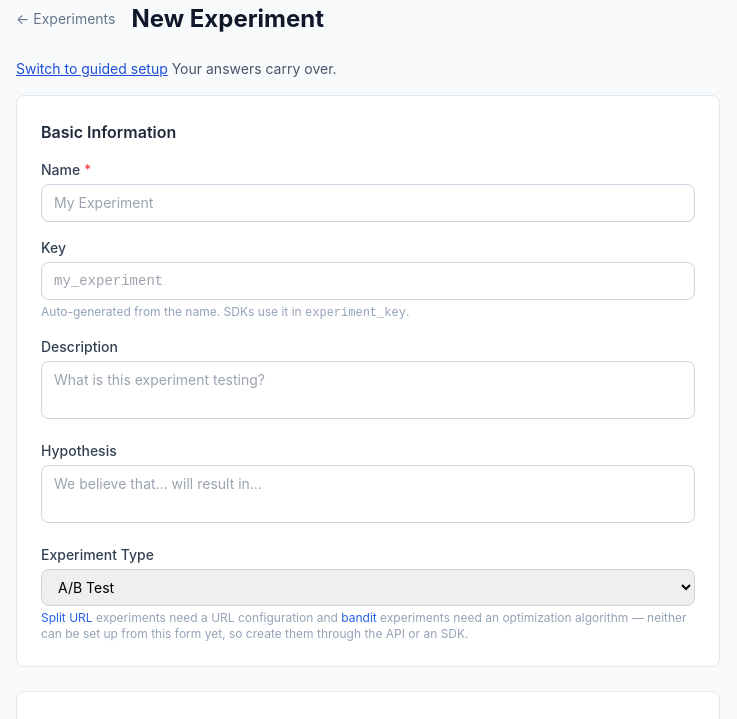
Test case: NewExperimentPage › requires at least one metric with an event name
The image size is (737, 719).
Type "No metric" into the field with test id "experiment-name" at (368, 203), box [41,184,695,222]
(page scrolled)
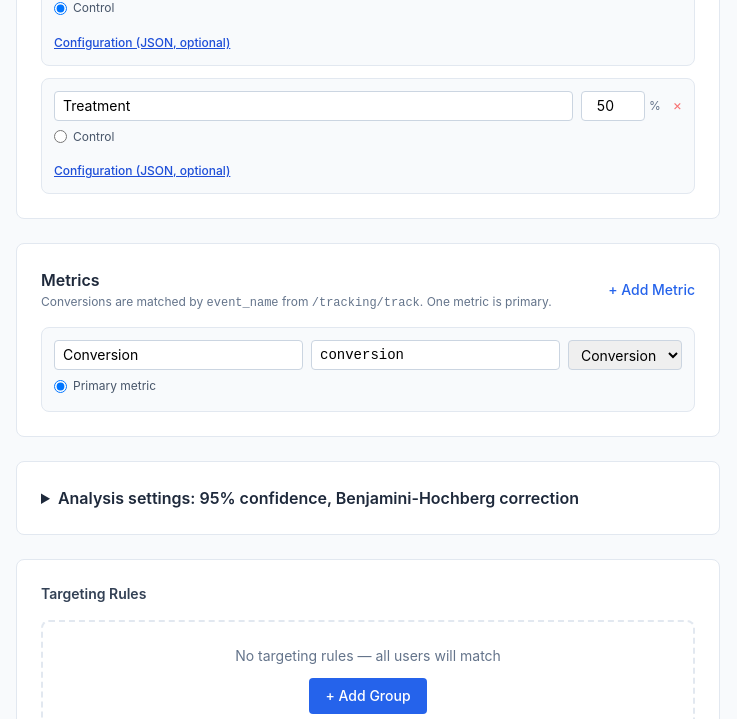
Clear the field with test id "metric-event-0" at (436, 355), box [311,340,560,370]
(page scrolled)
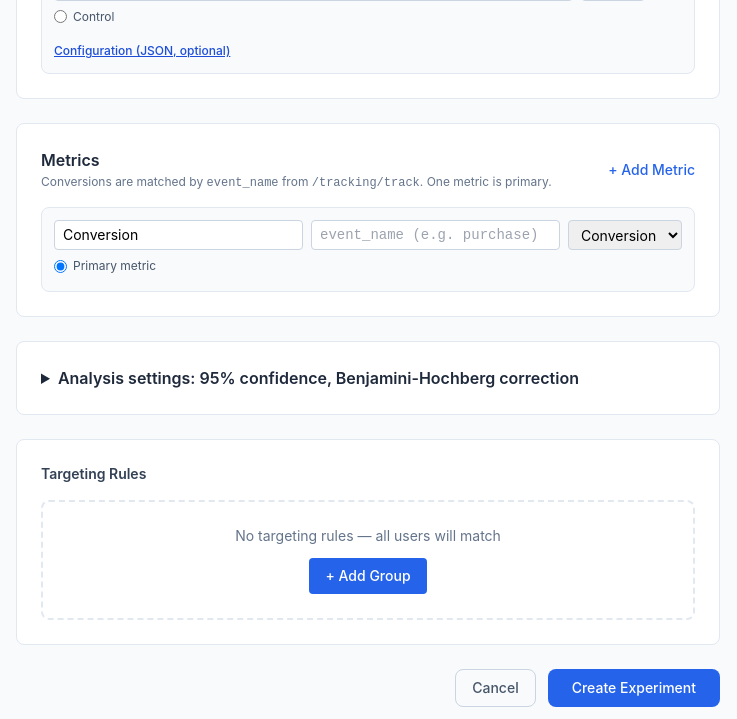
Click the button with test id "submit-experiment" at (634, 688), box [548,668,720,706]
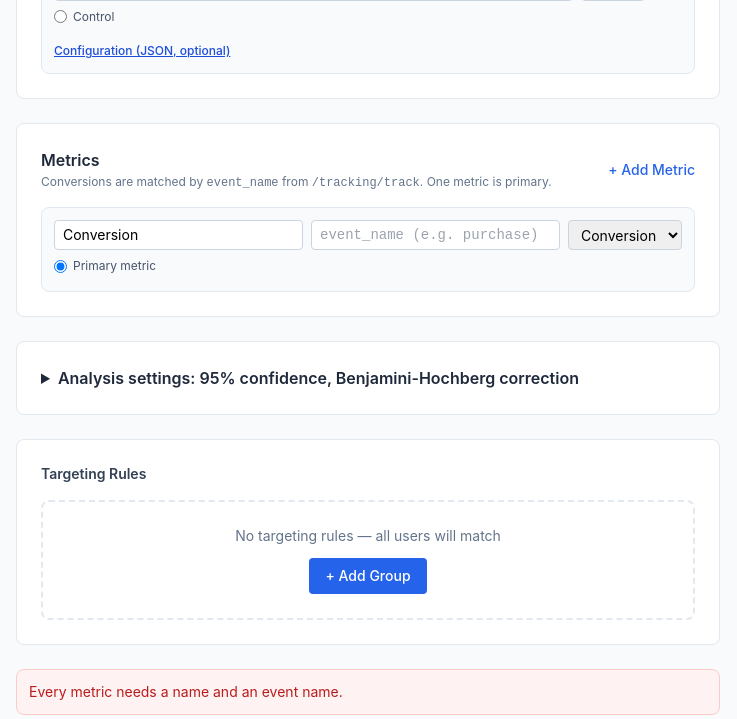
Check: the message with test id "form-error" shows "name and an event name", box [29,682,343,700]
